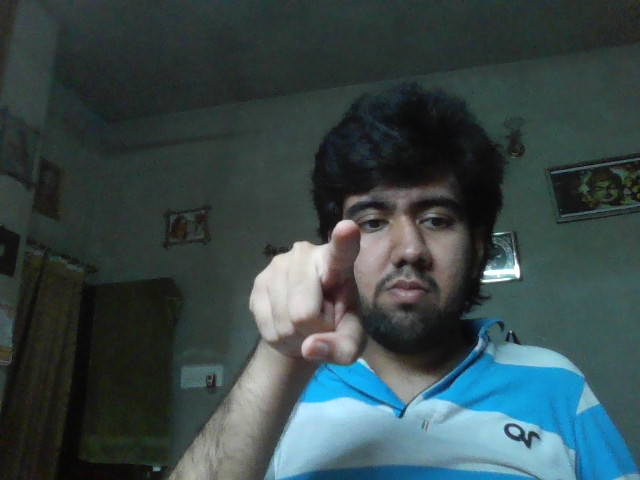You: (249, 221, 368, 360)
